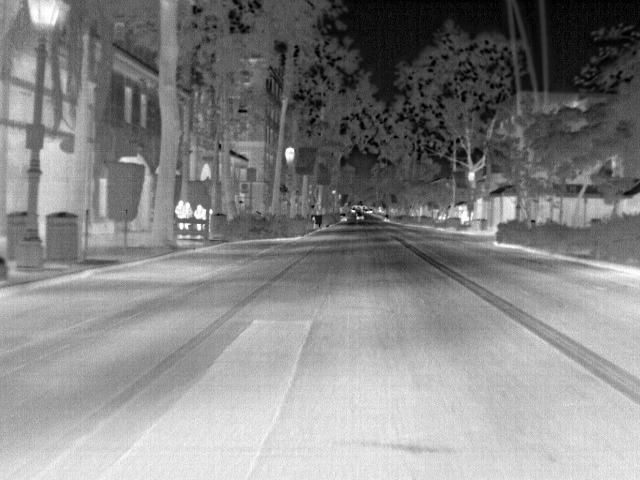person: (193, 202, 209, 222), (182, 200, 196, 218), (174, 198, 186, 216)
